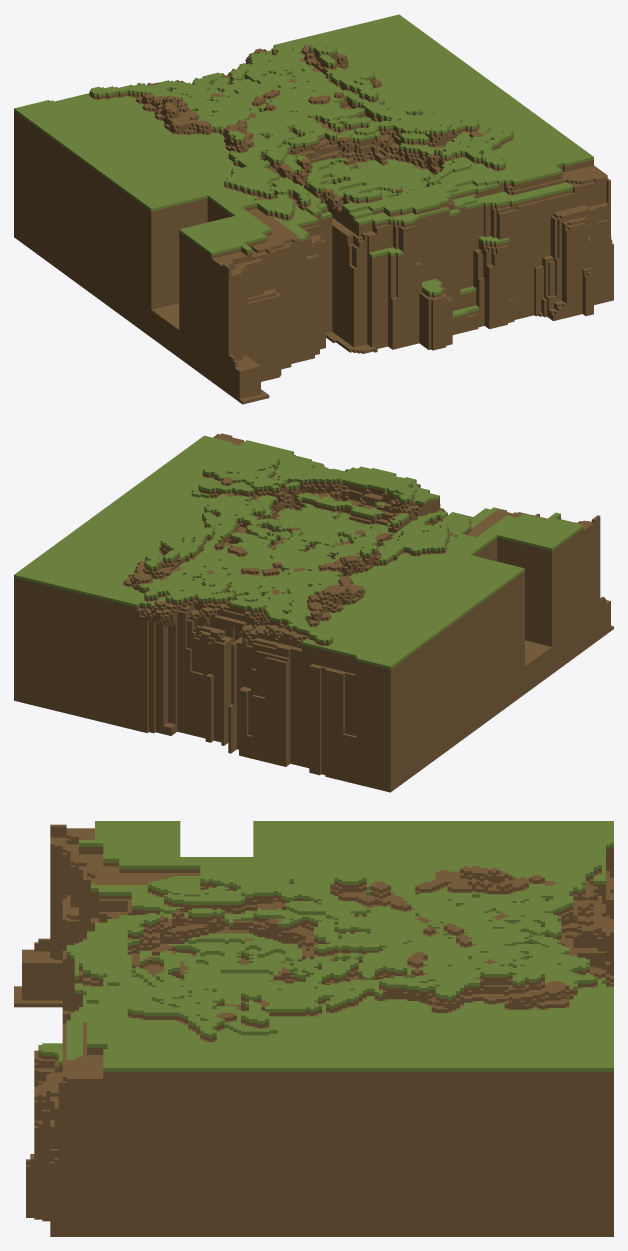
Rendered from forest1.4-184.obj.
3 renders of one model, top to bottom at view 1: azimuth 30°, elevation 25°; view 2: azimuth 150°, elevation 25°; view 3: azimuth 270°, elevation 25°, orthographic. The views are drawn at different scales.
Bounding box in the file's own units: 14.4 × 5.2 × 14.8.
1 material, 1 textured.
